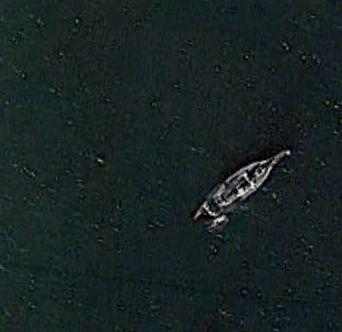Ships: (193, 137, 295, 243)
